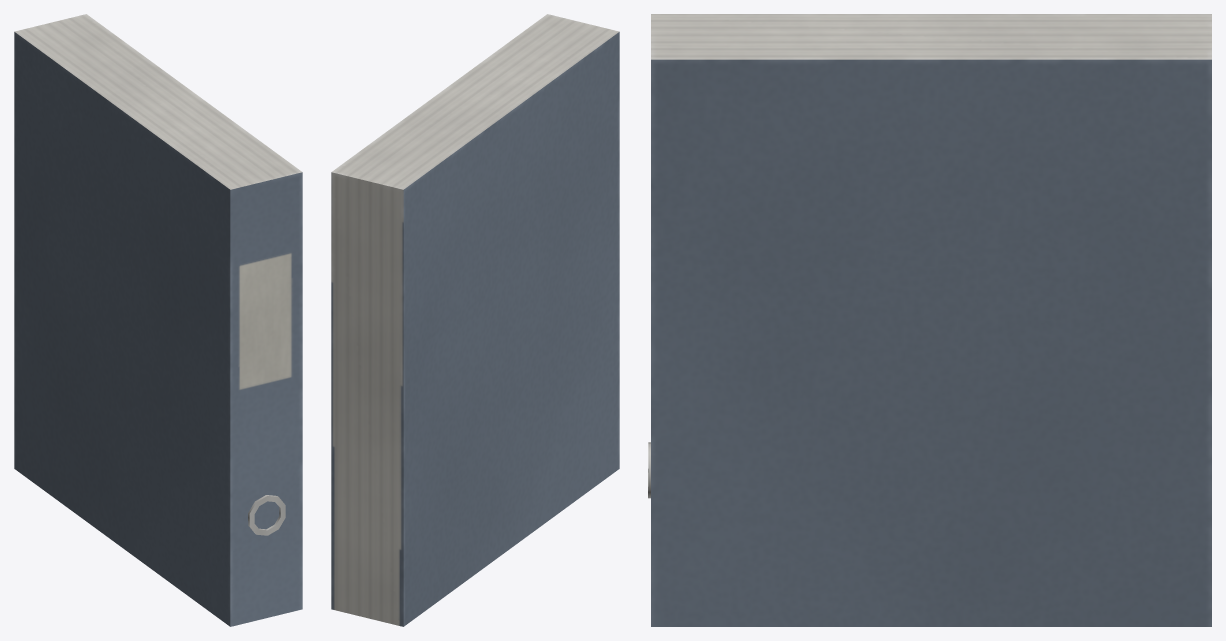
The model's file is Map.fbx.
3 renders of one model, left to right at view 1: azimuth 30°, elevation 25°; view 2: azimuth 150°, elevation 25°; view 3: azimuth 270°, elevation 25°, orthographic. The views are drawn at different scales.
Parts seen in each view (by area): view 1: Map; view 2: Map; view 3: Map.
Boxes of the visible parts, x1=… form: Map: x1=14, y1=14, x2=302, y2=626; Map: x1=331, y1=14, x2=619, y2=626; Map: x1=648, y1=14, x2=1211, y2=626.
Size of the model in its own units: 0.055 by 0.318 by 0.2865.
1 material, 1 textured.
